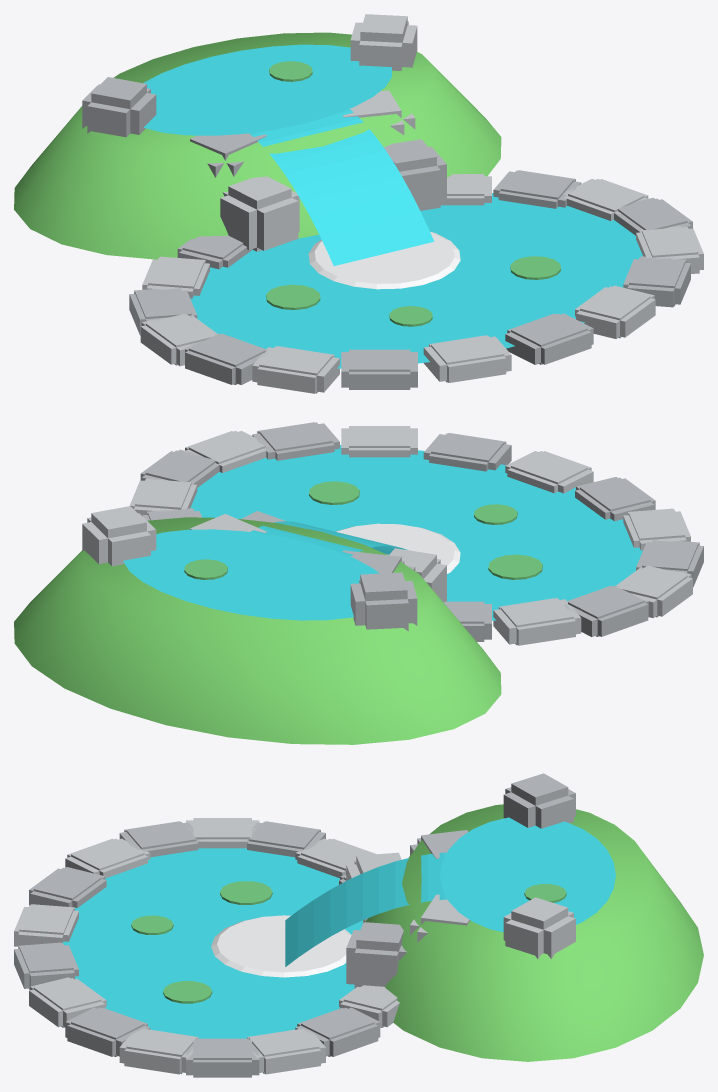
File: terrain_waterfall_lagoon_12x12.glb
3 renders of one model, top to bottom at view 1: azimuth 30°, elevation 25°; view 2: azimuth 150°, elevation 25°; view 3: azimuth 270°, elevation 25°, orthographic. The views are drawn at different scales.
Visible parts, largest first — view 1: Mesh_Pond_Water.002, Mesh_Lagoon_Details, Mesh_Waterfall_Bluff; view 2: Mesh_Waterfall_Bluff, Mesh_Pond_Water.002, Mesh_Lagoon_Details; view 3: Mesh_Lagoon_Details, Mesh_Pond_Water.002, Mesh_Waterfall_Bluff.
Part boxes in pixels (x1,y1,x2,y2): Mesh_Pond_Water.002: (143, 44, 642, 368); Mesh_Lagoon_Details: (82, 14, 703, 393); Mesh_Waterfall_Bluff: (14, 32, 501, 259); Mesh_Waterfall_Bluff: (14, 517, 501, 744); Mesh_Pond_Water.002: (123, 445, 642, 620); Mesh_Lagoon_Details: (82, 422, 703, 645); Mesh_Lagoon_Details: (14, 773, 575, 1077); Mesh_Pond_Water.002: (47, 817, 615, 1038); Mesh_Waterfall_Bluff: (363, 804, 703, 1061).
Size of what is drawn, in the model's own units: 9.85 by 2.07 by 11.76.
